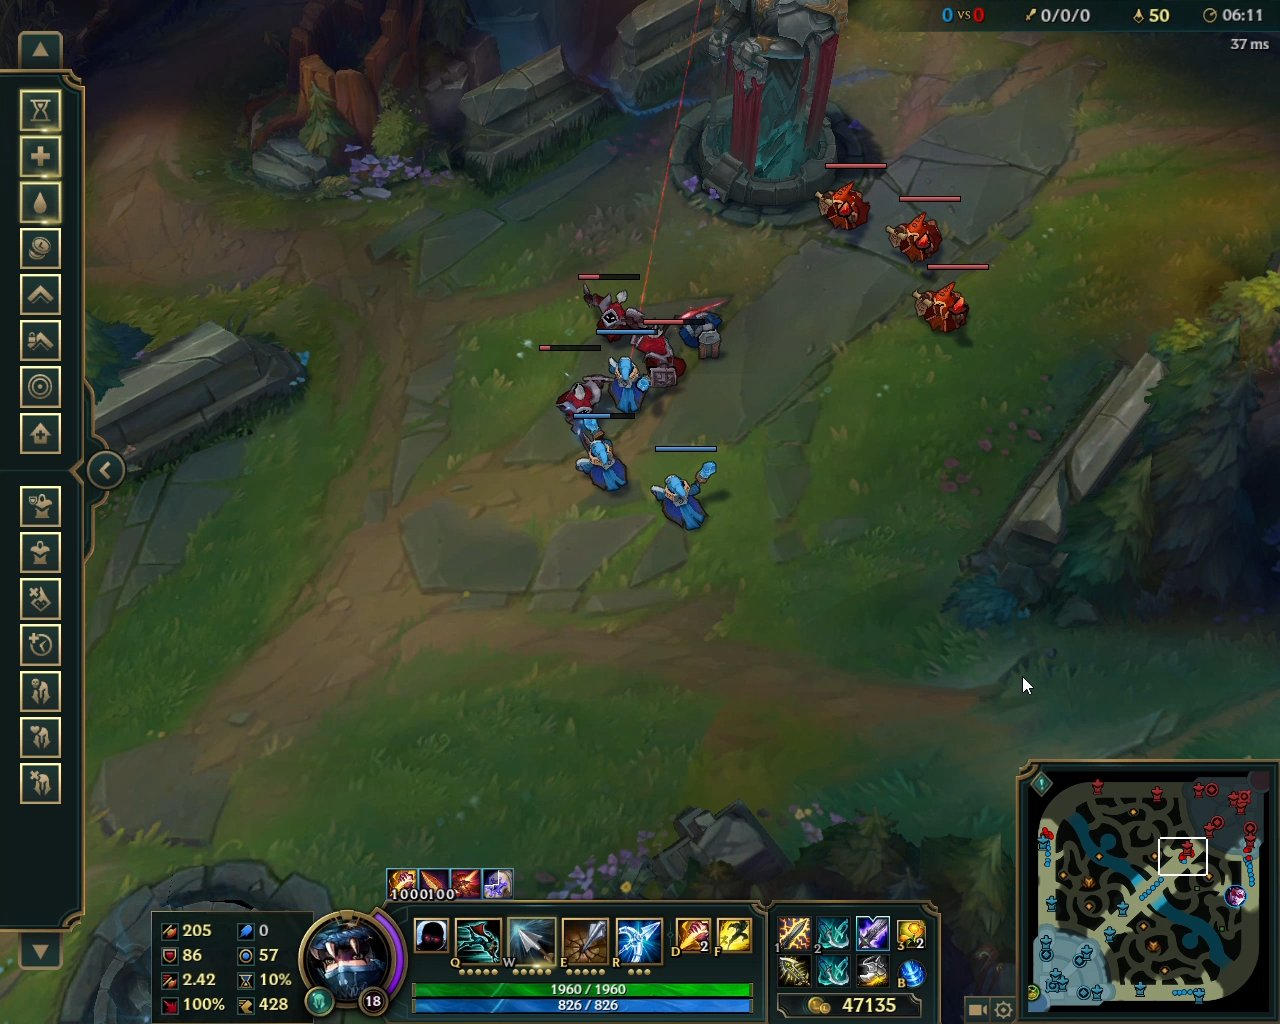EnemyMinion: (540, 346, 615, 427), (908, 263, 990, 339), (884, 196, 961, 266), (813, 163, 886, 234), (631, 320, 705, 390), (574, 275, 641, 343)
Tower: (686, 1, 843, 222)
